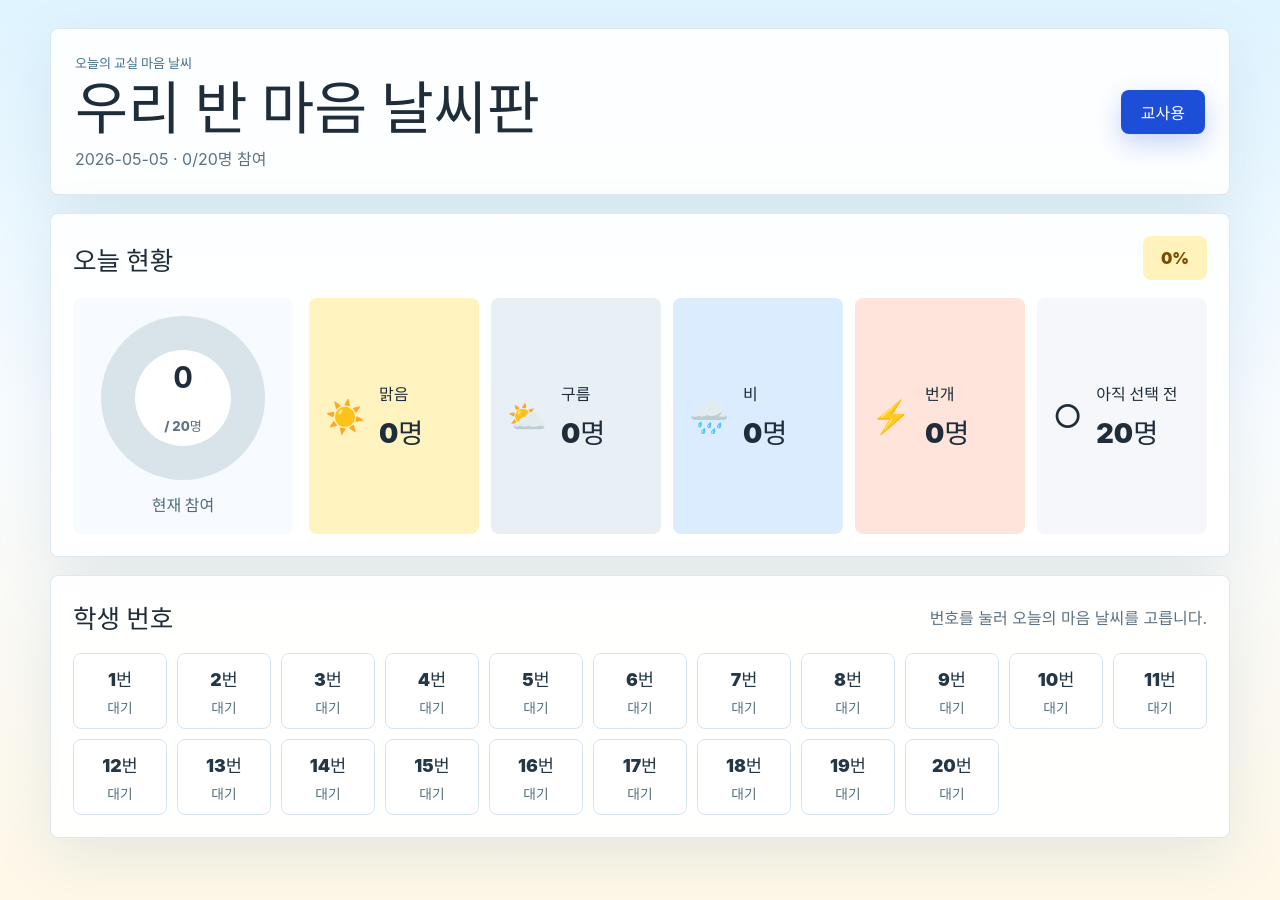
Test: Classroom emotion tracker app › lets a student select weather and updates class stats without showing individual weather
Click the button with aria-label "1번 마음 날씨 선택" at (120, 692), box [73,654,167,730]
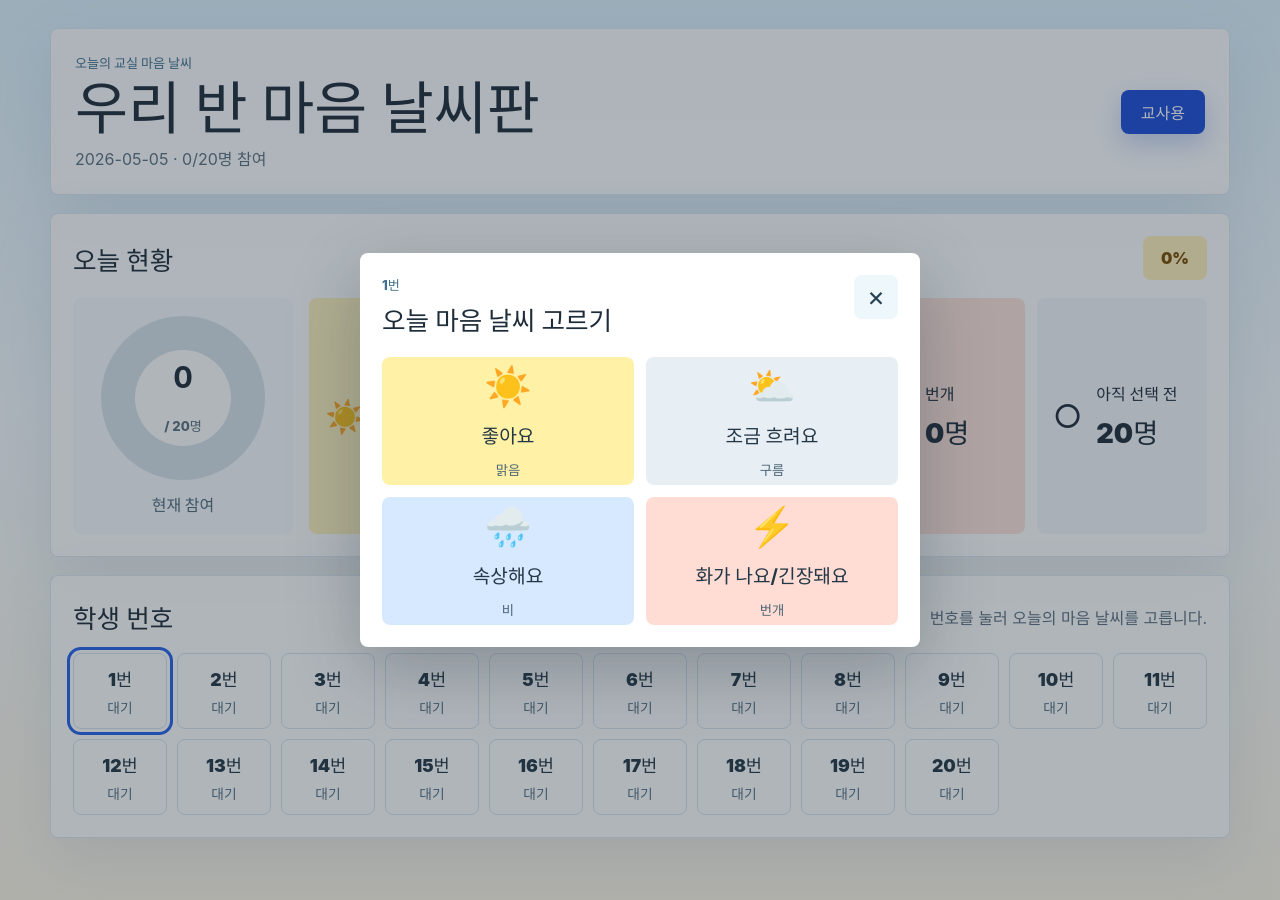
Click the button with aria-label "☀️ 좋아요 선택" at (508, 421), box [382,357,634,485]
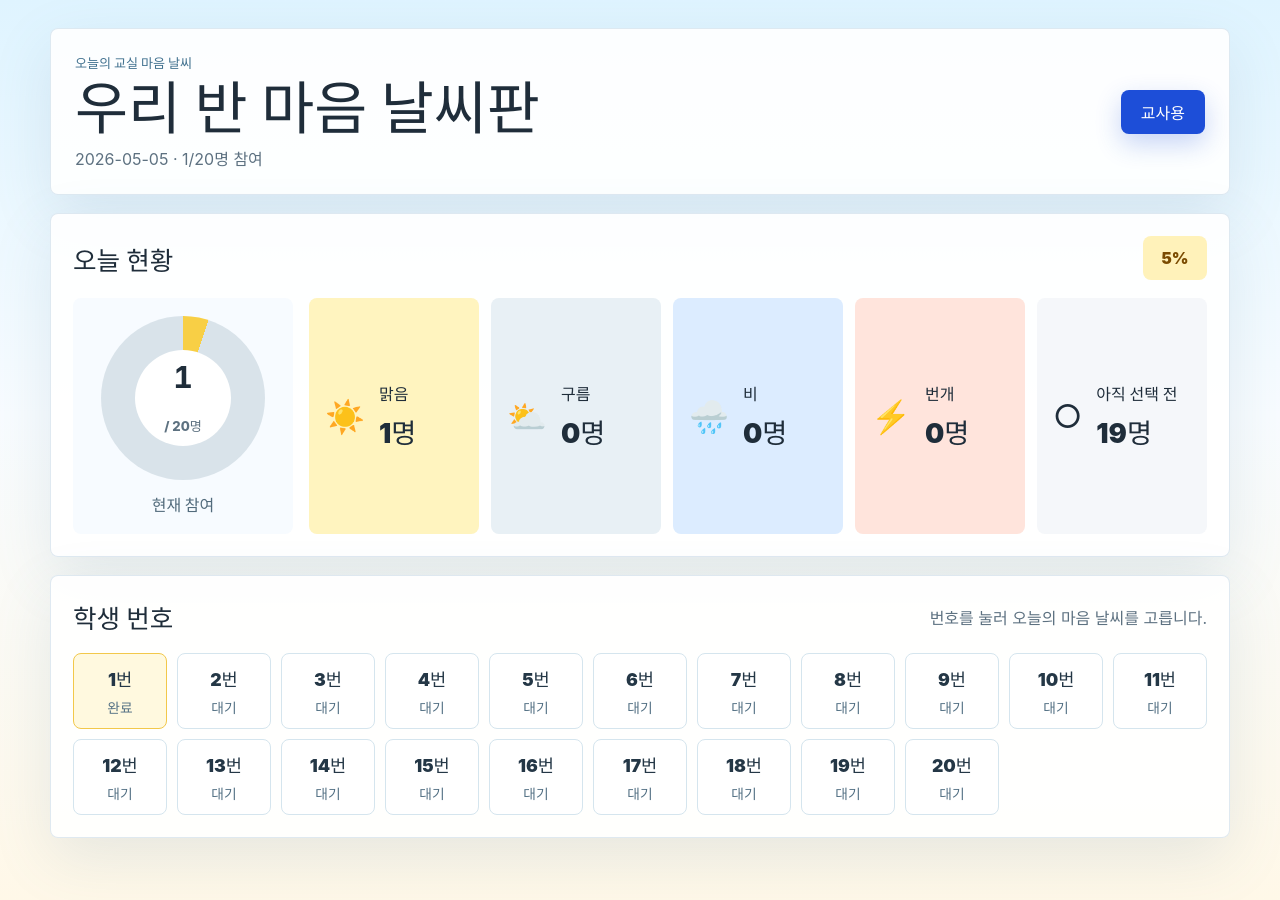
Expected: the heading "맑음" is shown, [379,384,408,404]
Expected: the text "1명" is shown, [379,412,416,452]
Expected: the button with aria-label "1번 선택 완료" is shown, [73,654,167,730]
